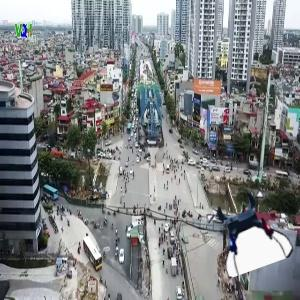drone: (209, 193, 287, 271)
